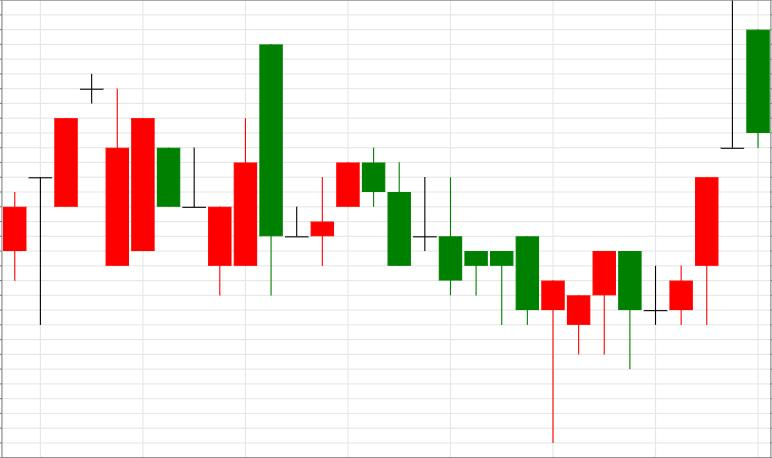hammer_rise: (363, 146, 564, 443)
